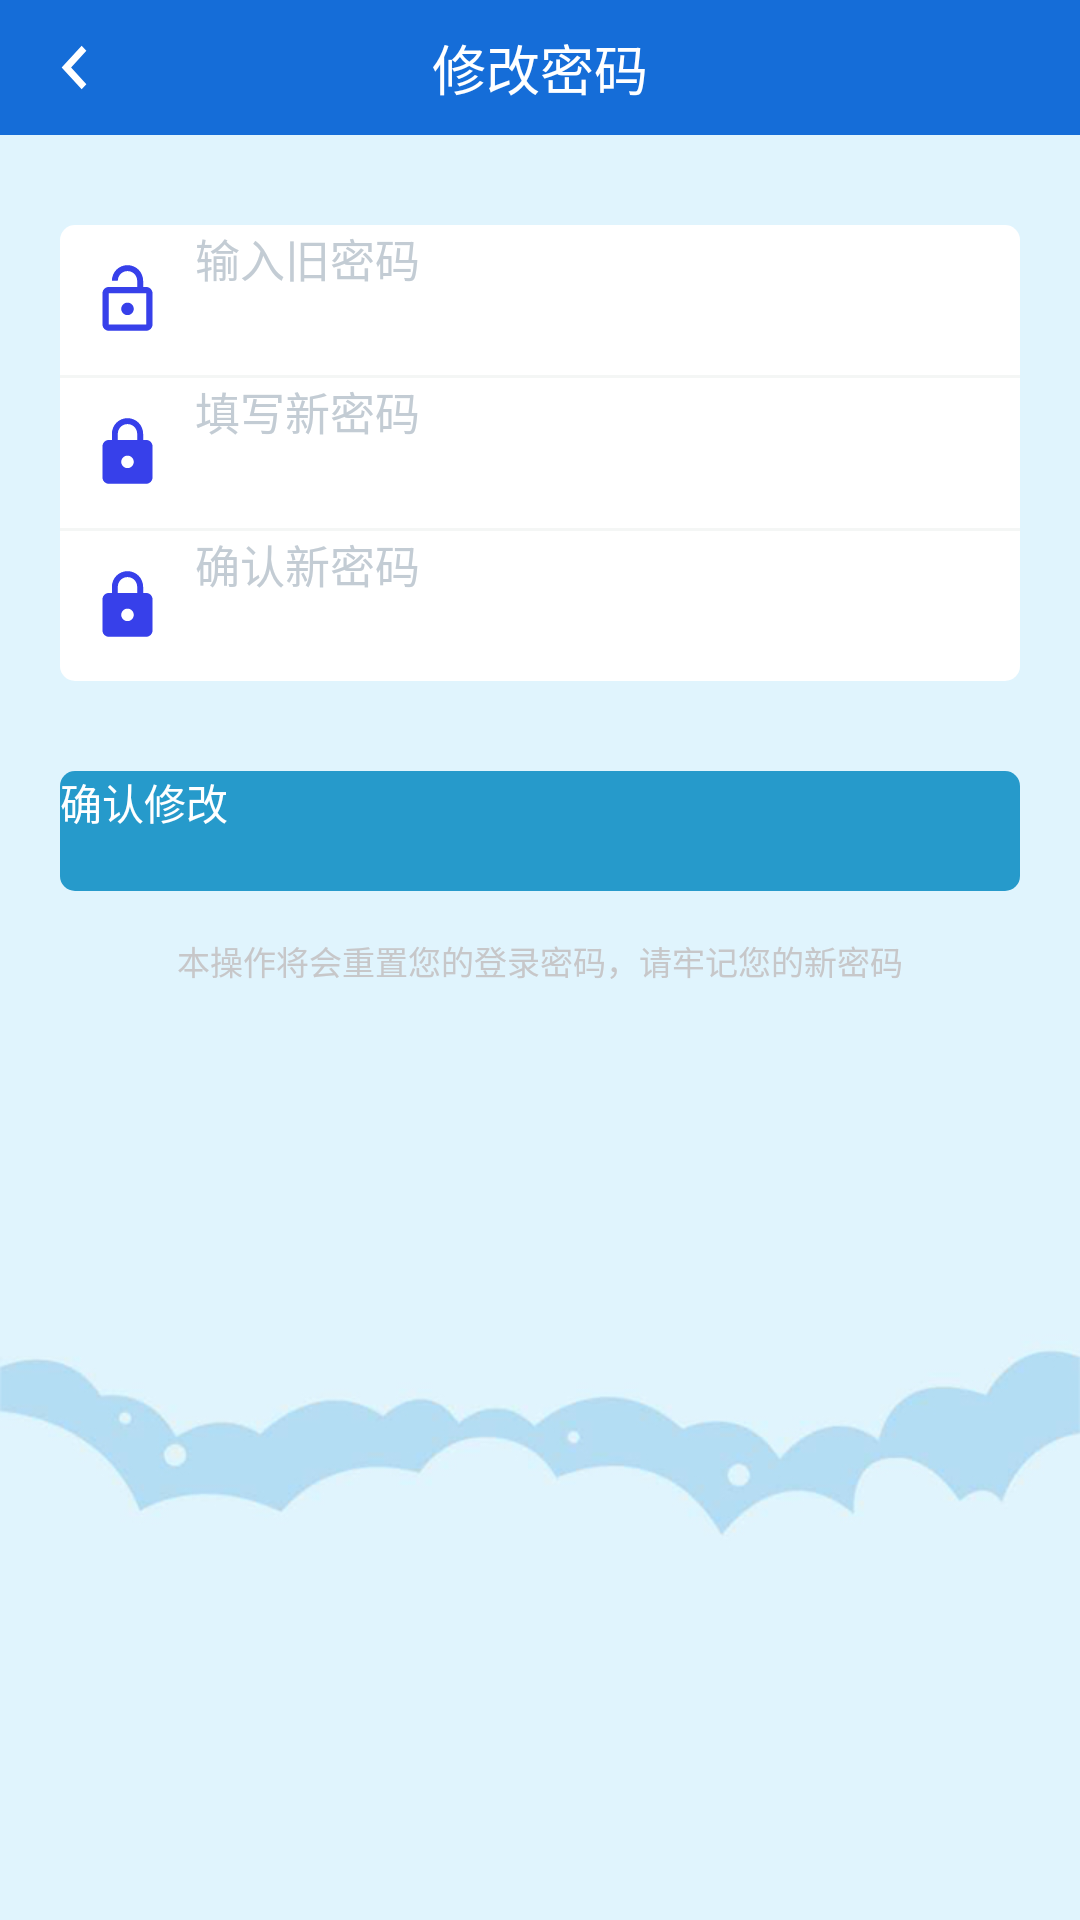

Screen size 1080w x 1920h. Icon name, then its center in pixels as (x=x, y=y):
left: (x=74, y=67)
oldpassword: (x=127, y=298)
